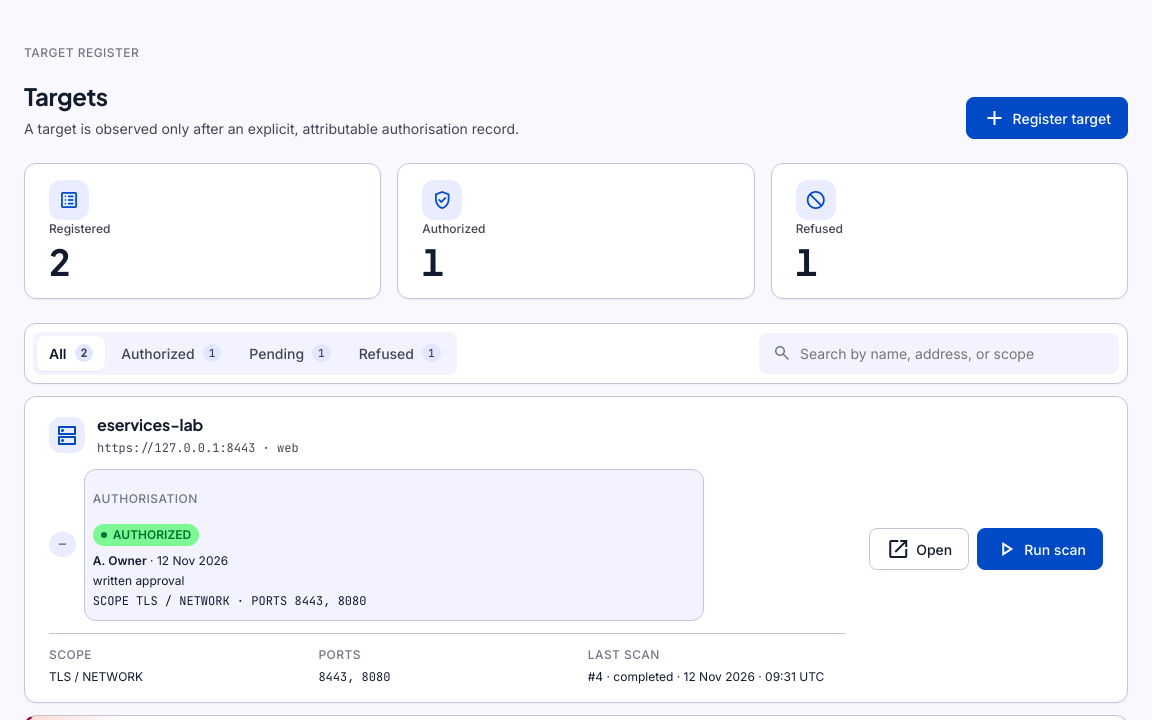
it: Targets › filters by authorisation status and shows real counts
Click the button "Pending 1" at (290, 353), box [237,336,343,371]
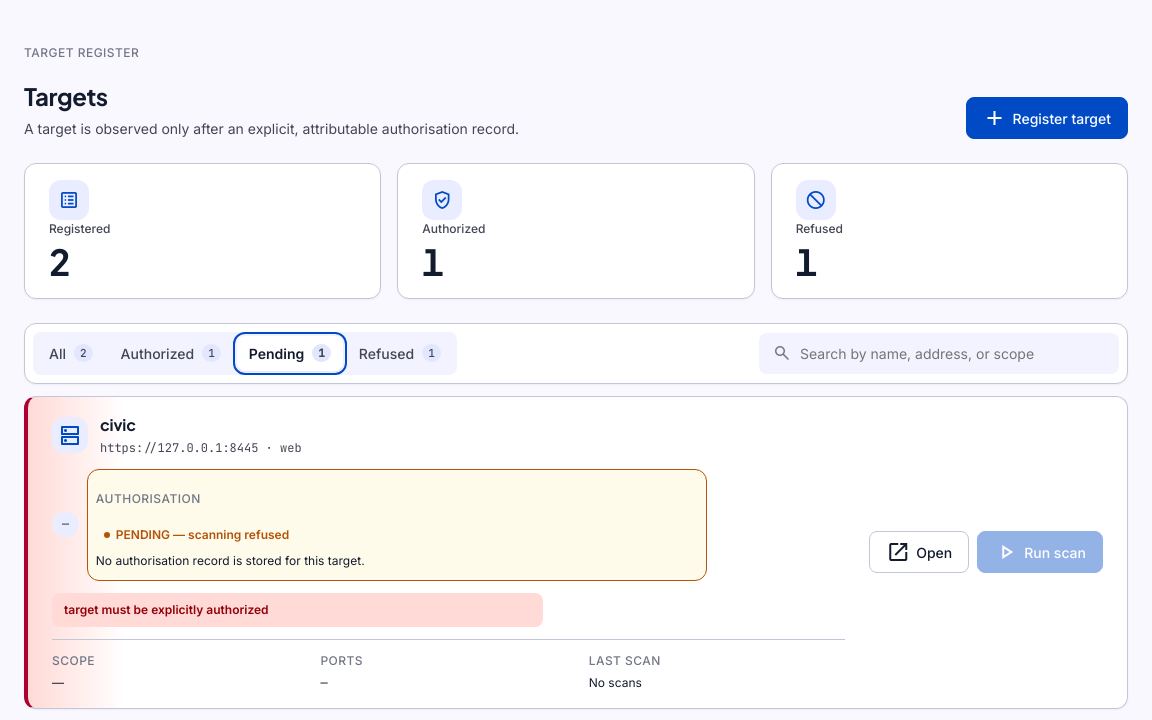
Expected: the button "civic" is shown, [100,413,302,437]
Now the button "eservices-lab" is gone
